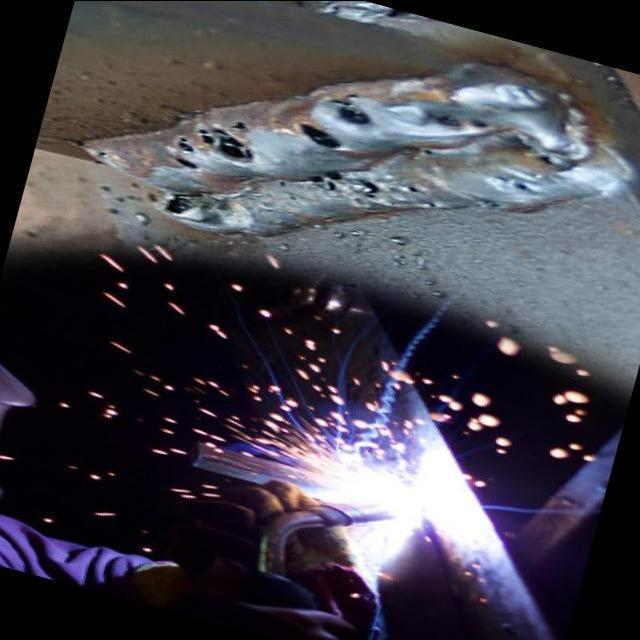defect: (165, 116, 257, 175), (162, 189, 235, 224), (287, 118, 347, 152), (326, 91, 374, 128), (522, 146, 568, 169), (304, 169, 344, 192), (355, 177, 385, 199), (430, 114, 466, 129), (509, 180, 532, 195), (478, 197, 503, 209), (470, 119, 491, 128), (95, 151, 114, 159), (281, 191, 298, 199), (422, 148, 437, 156), (273, 178, 288, 186), (404, 185, 420, 192), (426, 202, 436, 207)
